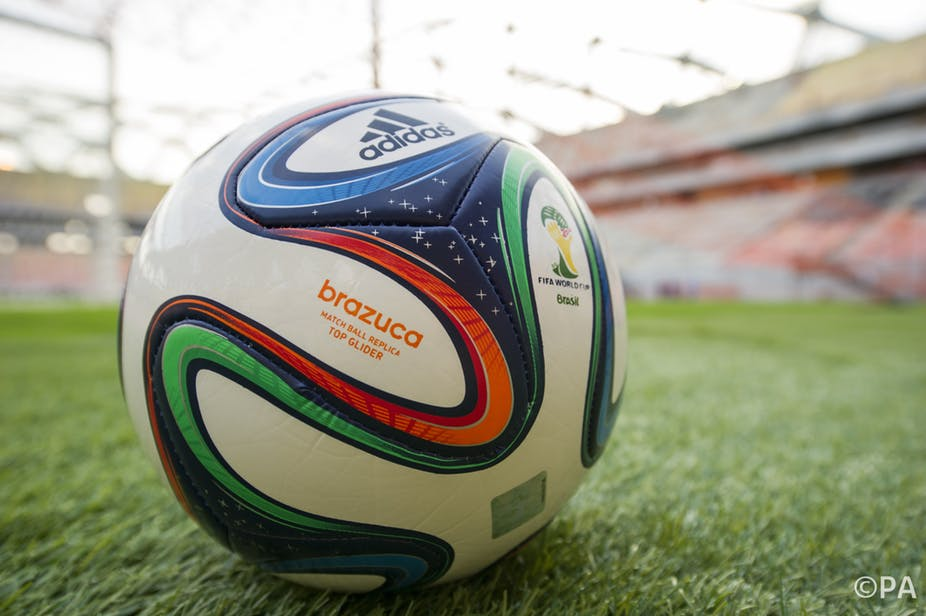football: (115, 90, 634, 600)
